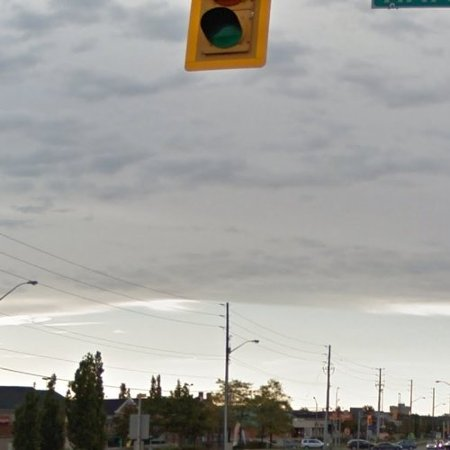紅綠燈: (172, 2, 293, 75)
